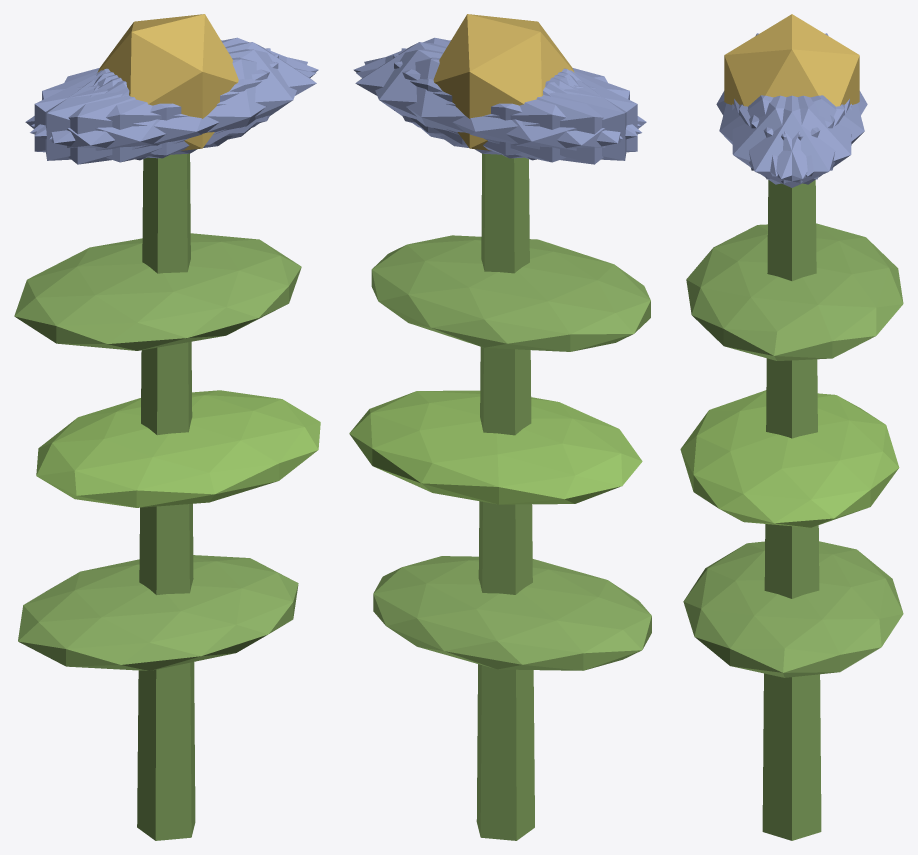
File: delonix-regia.glb
The picture shows the model from 3 angles, left to right: view 1: azimuth 30°, elevation 25°; view 2: azimuth 150°, elevation 25°; view 3: azimuth 270°, elevation 25°; orthographic projection.
Visible parts, largest first — view 1: stem, leaf1, leaf2, leaf0, center, petal1, petal6, petal2, petal5, petal7, petal0, petal4 (+2 smaller); view 2: stem, leaf2, leaf1, leaf0, center, petal8, petal3, petal7, petal4, petal2, petal0, petal5 (+2 smaller); view 3: stem, leaf1, leaf2, leaf0, center, petal0, petal5, petal4, petal1, petal8.
Part boxes in pixels (x1,y1,x2,y2): stem: [137, 153, 195, 840]; leaf1: [36, 390, 320, 507]; leaf2: [14, 233, 301, 350]; leaf0: [18, 555, 298, 670]; center: [97, 14, 238, 150]; petal1: [30, 57, 315, 162]; petal6: [25, 70, 232, 164]; petal2: [45, 48, 270, 160]; petal5: [49, 49, 307, 155]; petal7: [34, 54, 278, 158]; petal0: [97, 42, 316, 145]; petal4: [31, 37, 318, 136]; stem: [476, 153, 534, 840]; leaf2: [371, 235, 650, 351]; leaf1: [349, 390, 642, 504]; leaf0: [373, 556, 651, 670]; center: [433, 14, 574, 150]; petal8: [356, 57, 641, 162]; petal3: [439, 70, 646, 164]; petal7: [401, 48, 626, 160]; petal4: [364, 49, 622, 155]; petal2: [393, 54, 637, 158]; petal0: [355, 42, 574, 145]; petal5: [353, 37, 640, 136]; stem: [762, 180, 821, 840]; leaf1: [680, 390, 899, 527]; leaf2: [686, 223, 903, 360]; leaf0: [683, 541, 903, 677]; center: [724, 14, 859, 106]; petal0: [734, 95, 849, 187]; petal5: [732, 95, 844, 184]; petal4: [739, 95, 851, 184]; petal1: [719, 95, 834, 176]; petal8: [749, 95, 864, 176].
Bounding box in the file's own units: 0.1494 × 0.3972 × 0.1009.
